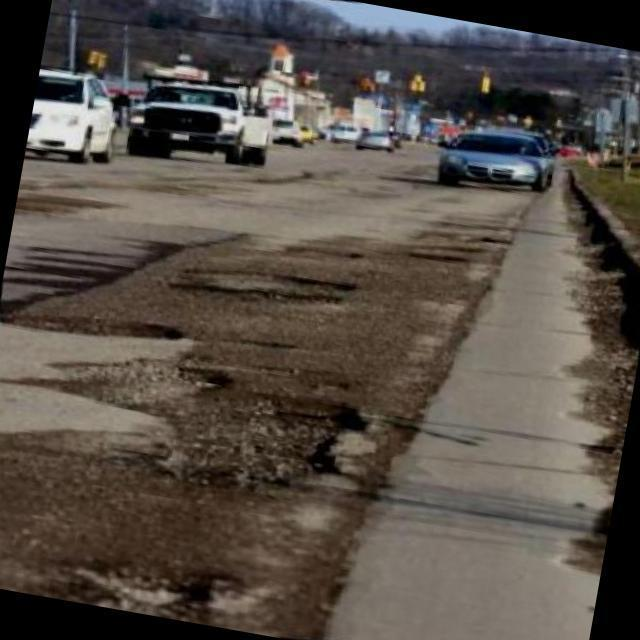Pothole: (132, 373, 370, 493), (76, 564, 217, 620), (0, 313, 183, 345)
